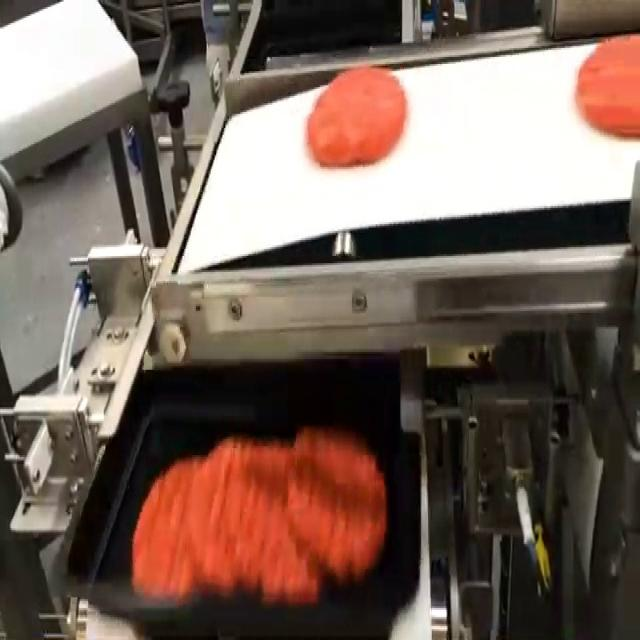4-hamburguer: (132, 428, 387, 603)
